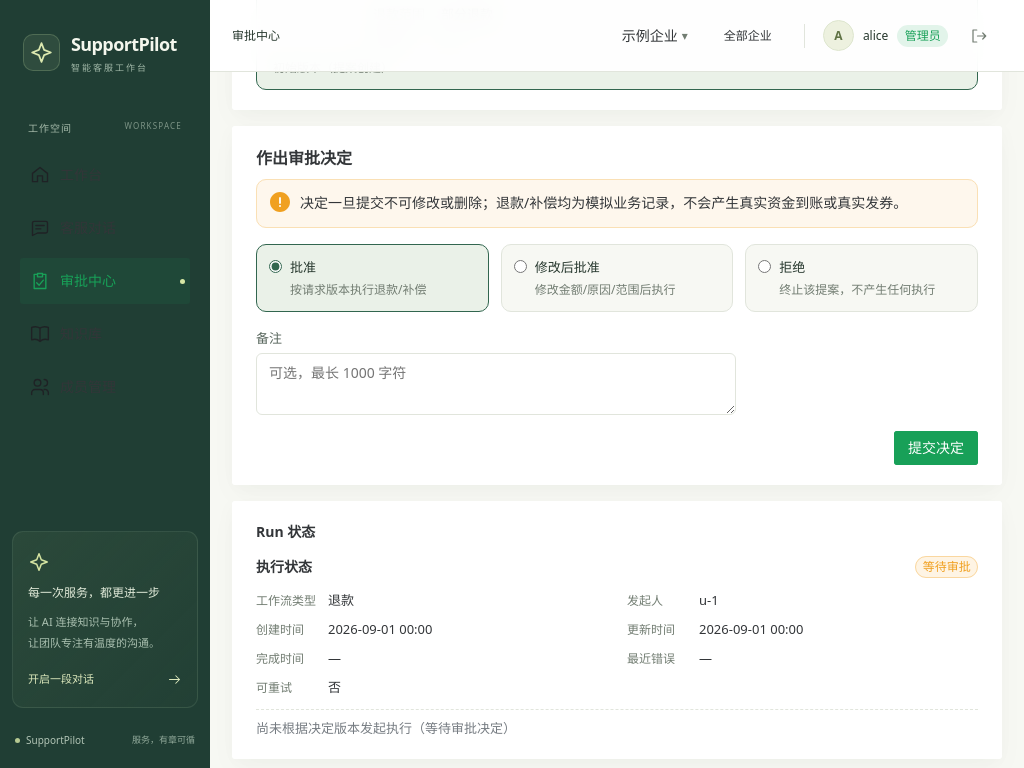
Scenario: ApprovalDetailView 决定流转 › 批准：确认后发请求，201 后重新加载详情并展示决定摘要
The image size is (1024, 768).
(page scrolled)
Note: 填写备注并打开确认框
In the text box with test id "comment-input": [496, 384] box [256,353,736,415], type "同意退款"
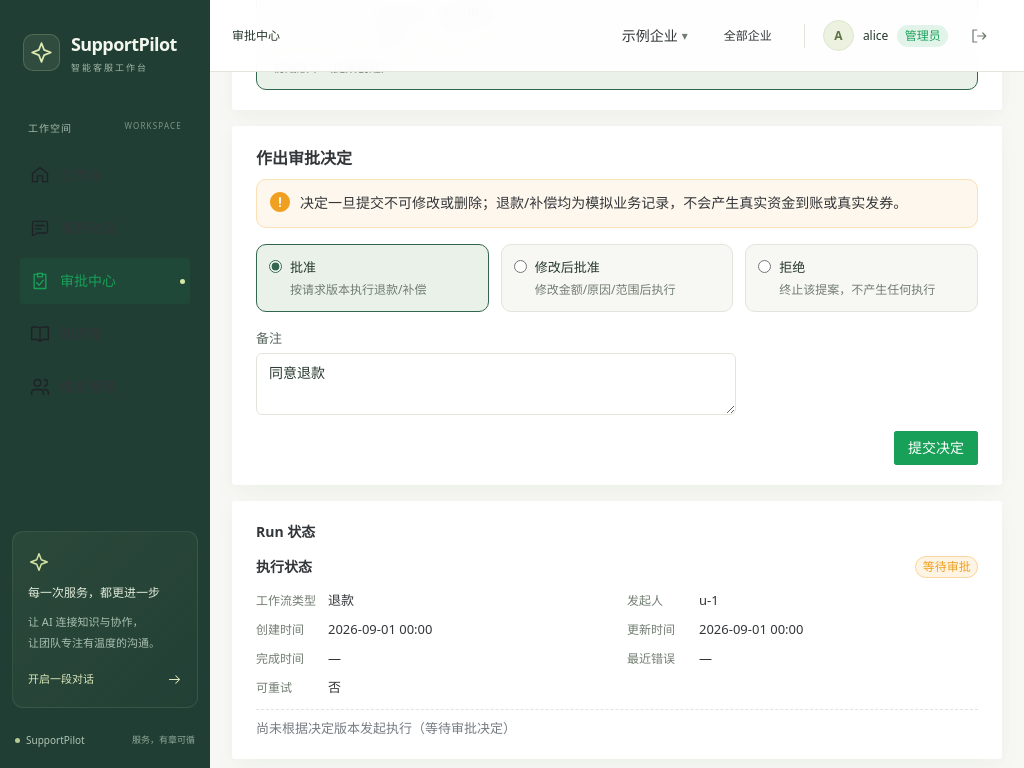
Click the button with test id "submit-decision": [936, 448] box [894,431,978,465]
(page scrolled)
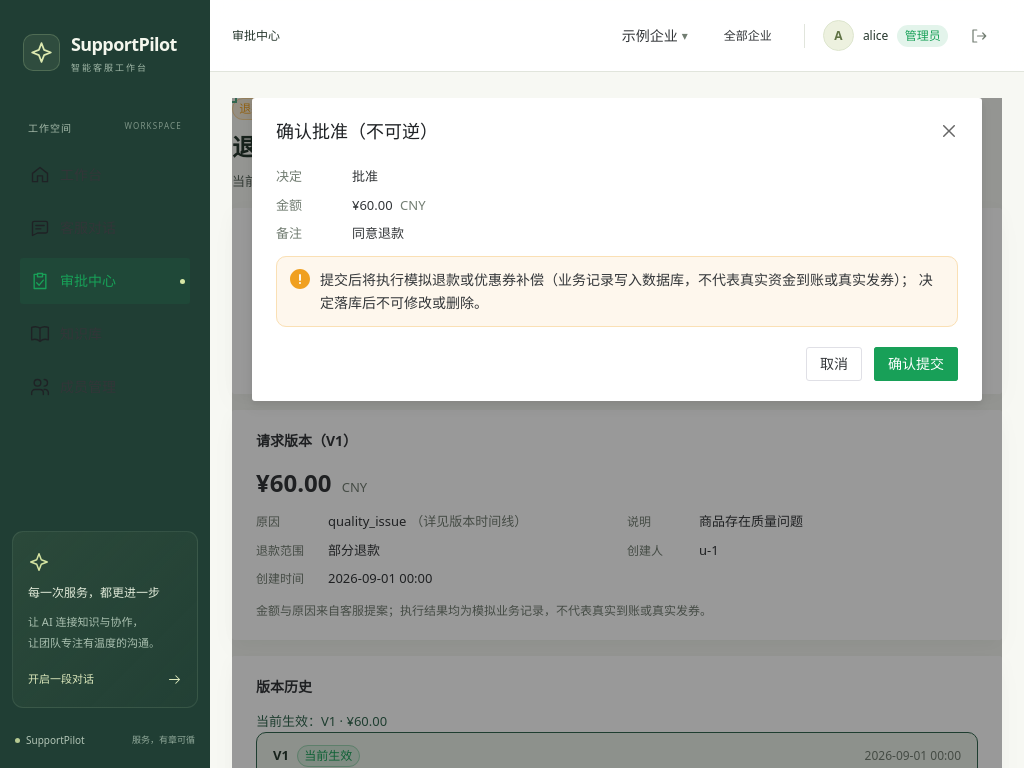
Click the button with test id "confirm-decision": [916, 364] box [874,347,958,381]
(page scrolled)
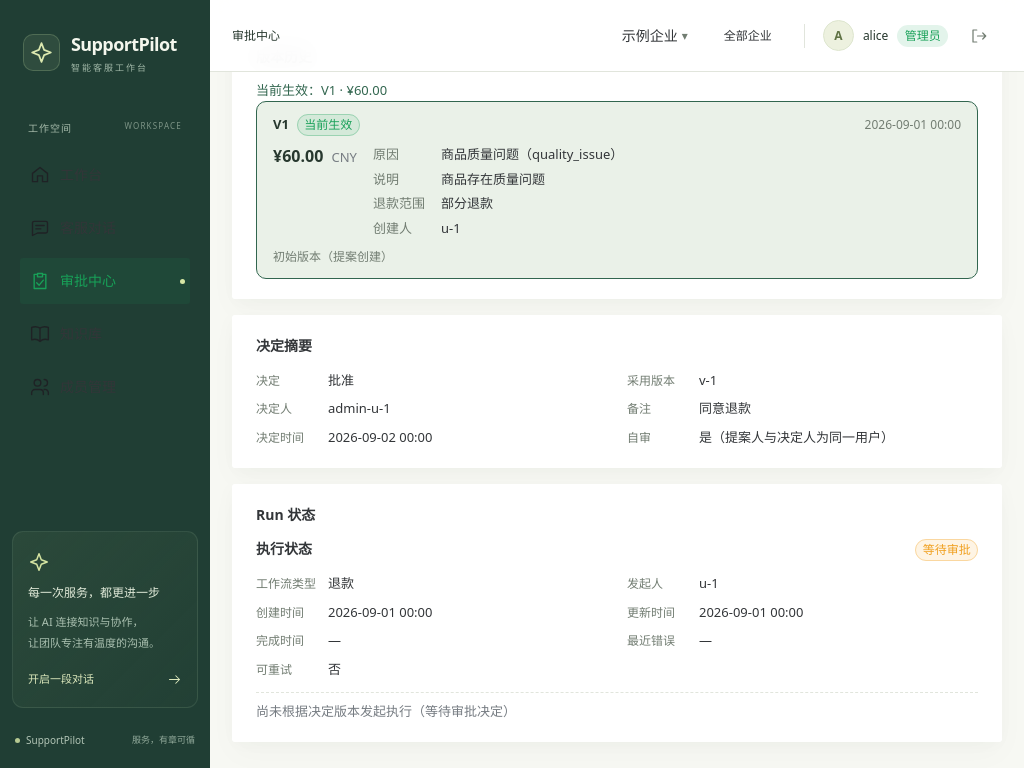
Expected: the element with test id "decision-summary" is shown, [232,315,1002,468]
